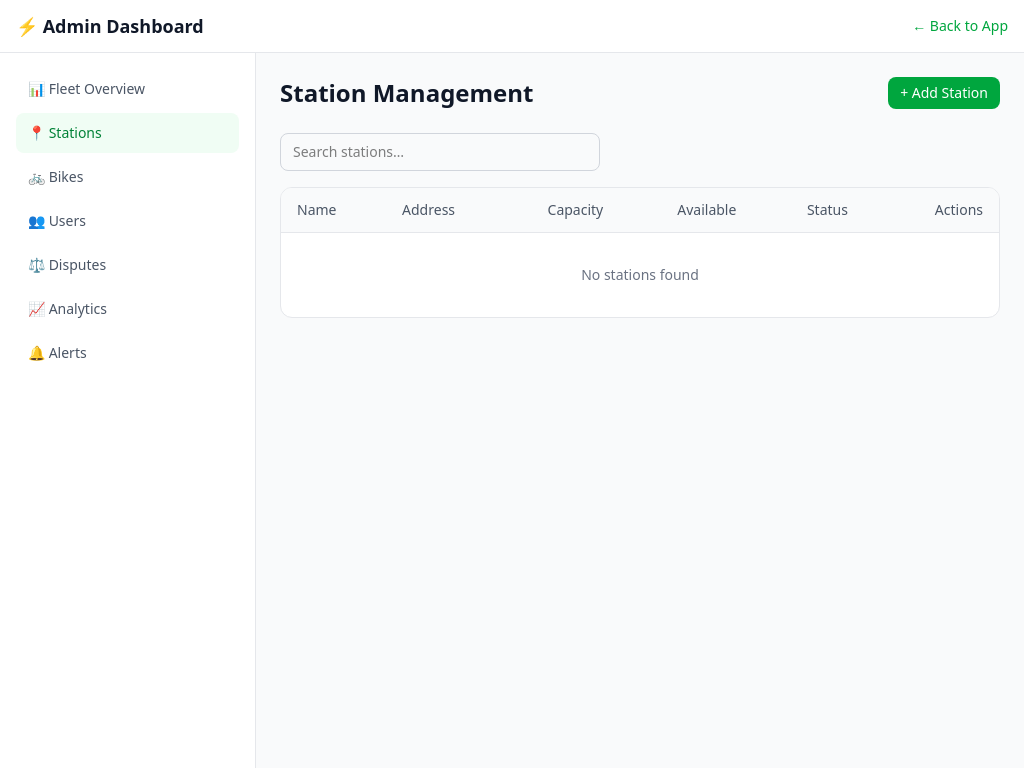
Test: StationManagement › opens add station modal
This screenshot has width=1024, height=768.
Expected: the heading "Station Management" is shown, [280, 77, 534, 109]
Click the button "+ Add Station".
click(944, 93)  # box [888, 77, 1000, 109]
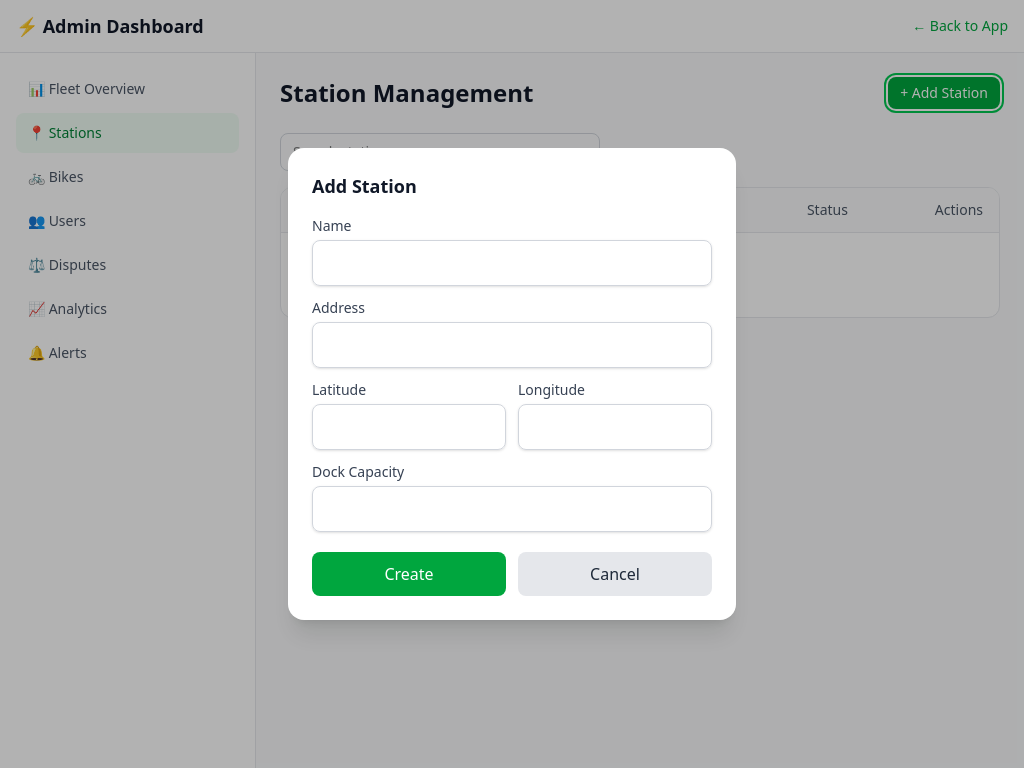
Expected: the heading "Add Station" is shown, [312, 174, 417, 198]
